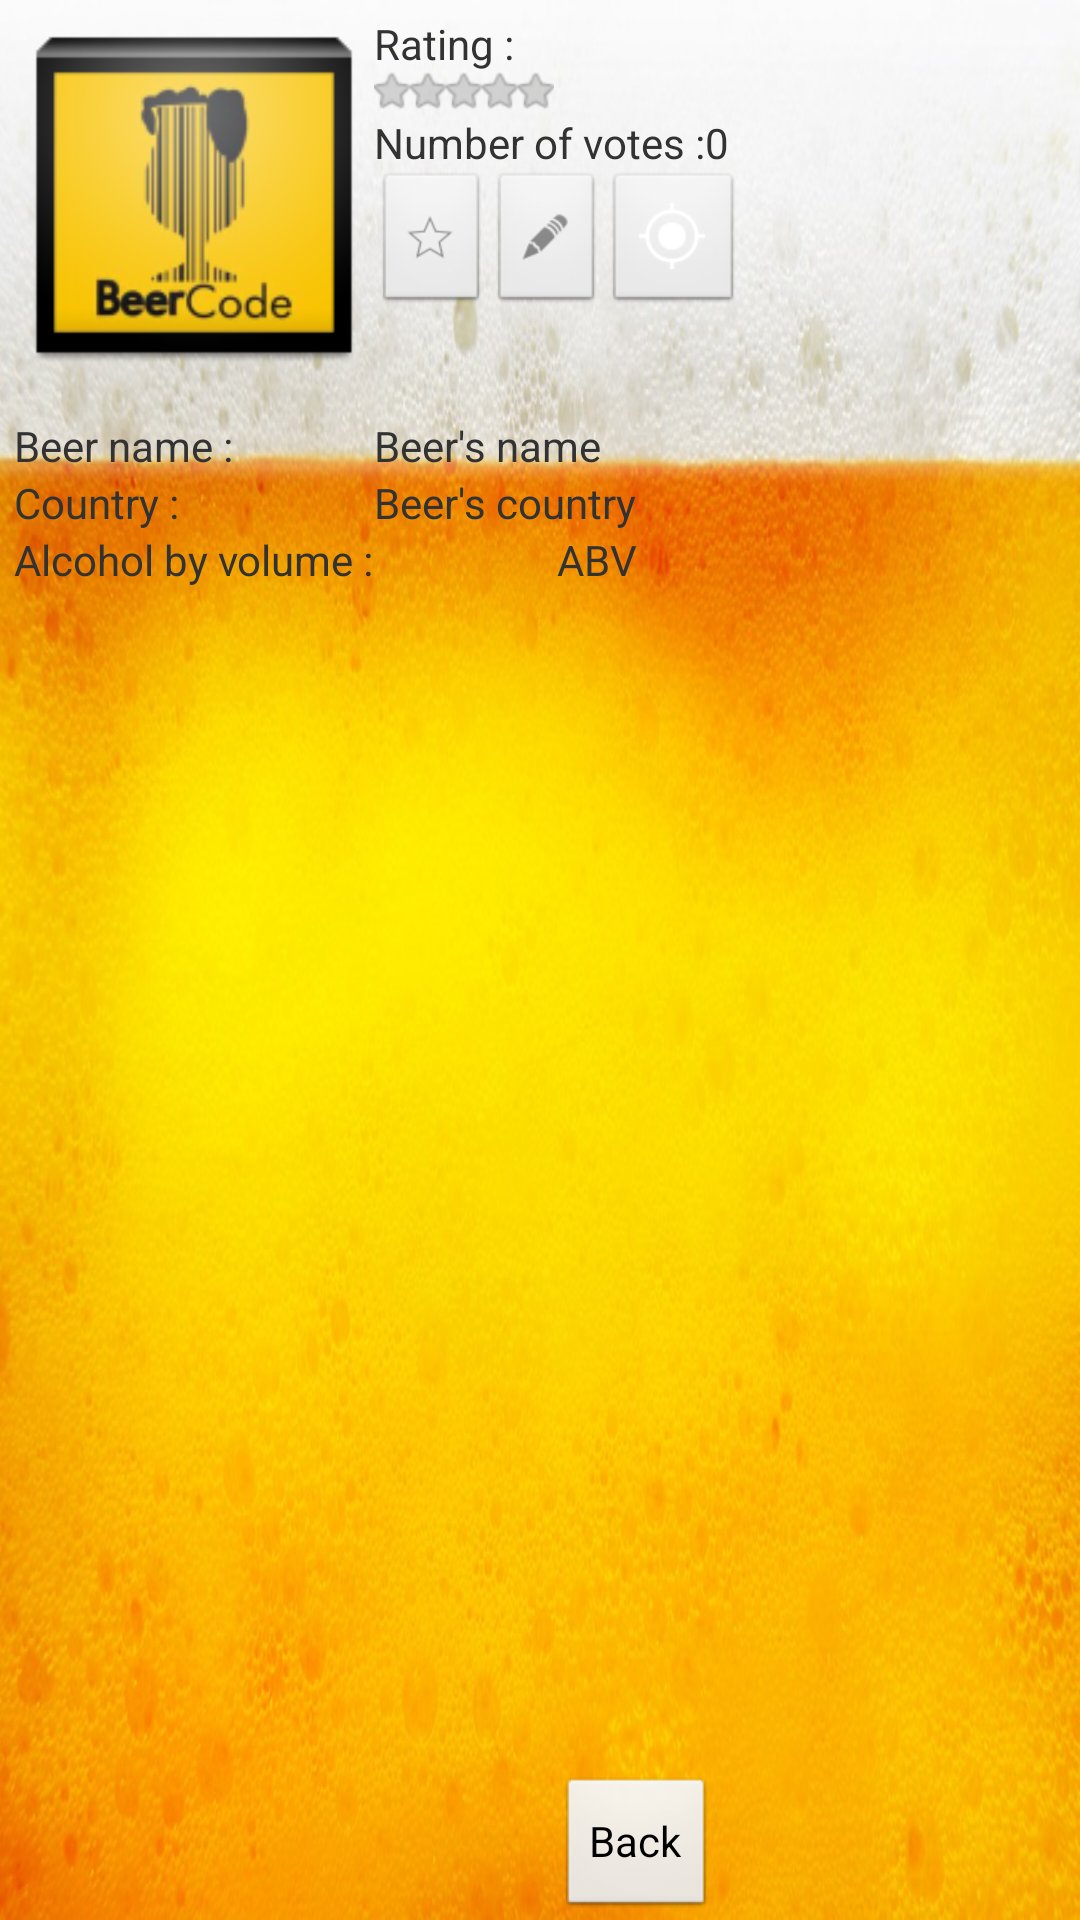

Screen size 1080×1920. Icon name, then its center in pixels as (x=x, y=y):
favoritefalse: (x=428, y=246)
location: (x=673, y=246)
note: (x=546, y=244)
